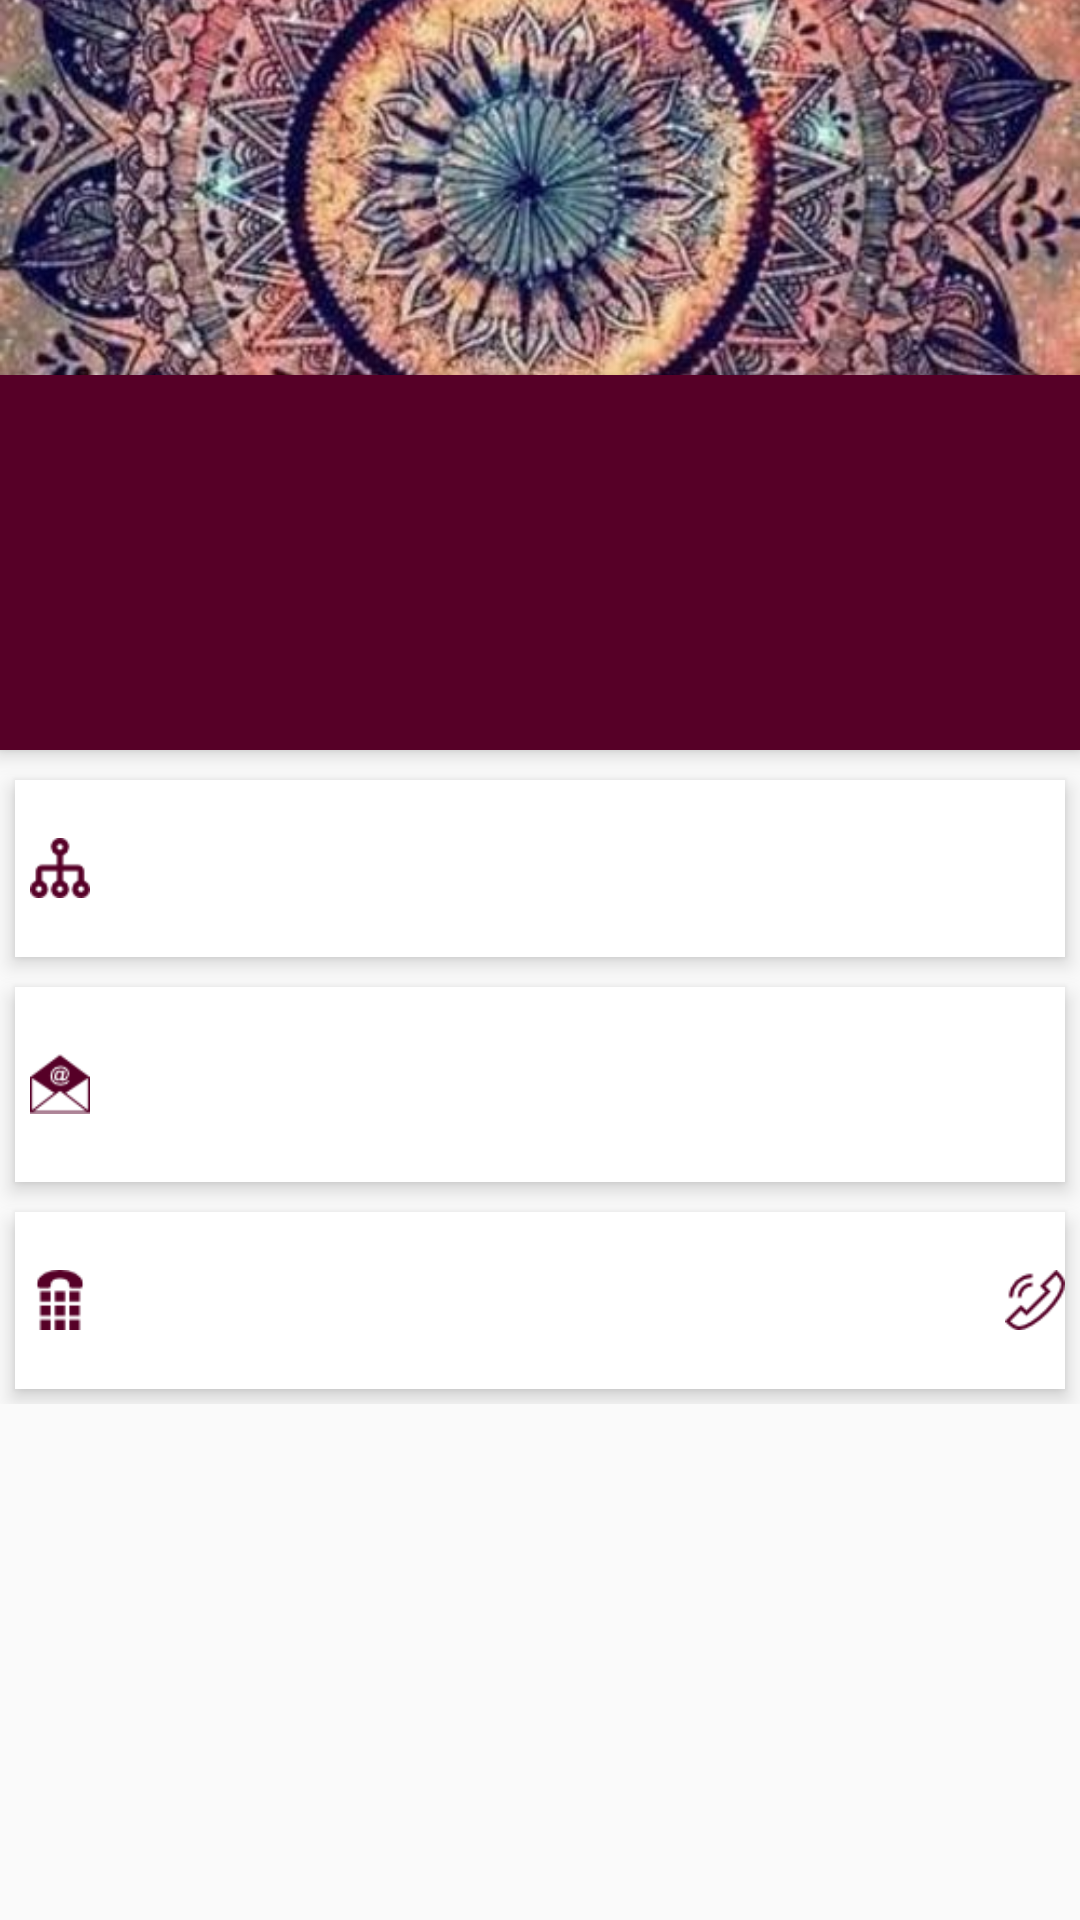

Named icons in this screenshot (1080x1920) and their centers, point (x, y):
email: point (60, 1084)
phone call: point (1035, 1300)
phone number: point (60, 1300)
